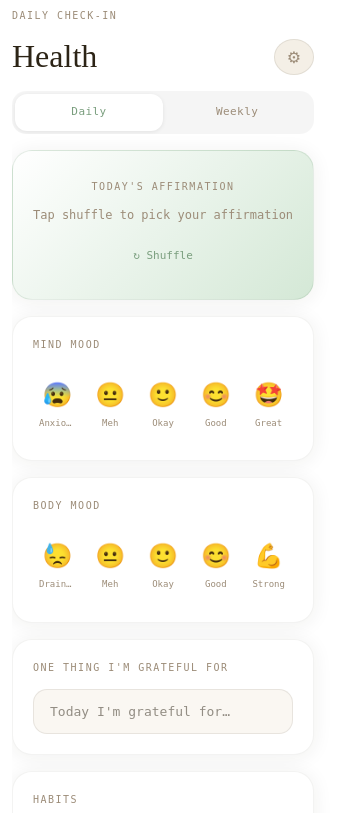
HealthScreen – Weekly View › shows mood trend sections
Click the button "Weekly" at (237, 113), box [163,94,311,131]
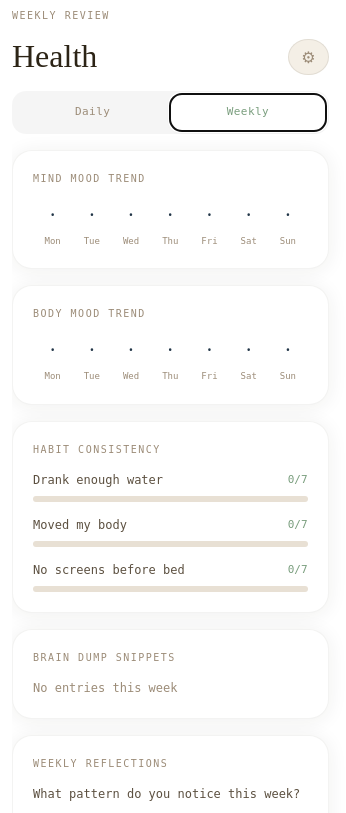
expect the text "Mind mood trend" is shown: met, box [33,173,146,184]
expect the text "Body mood trend" is shown: met, box [33,308,146,319]
